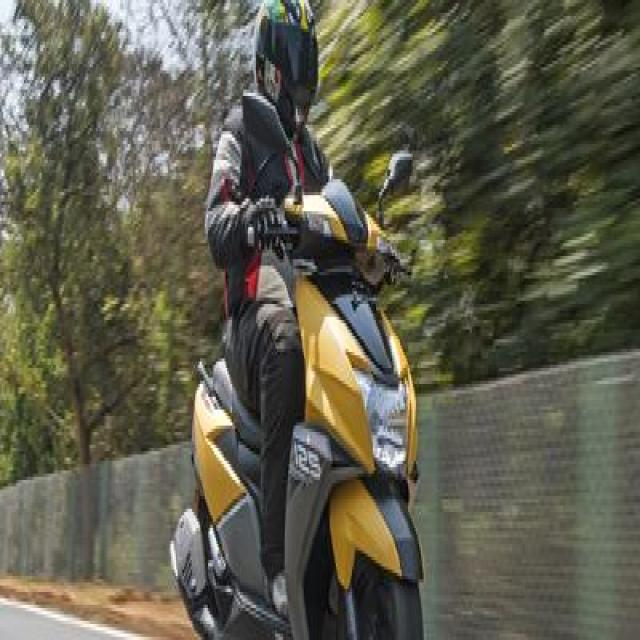motorcycle: (171, 0, 422, 639)
